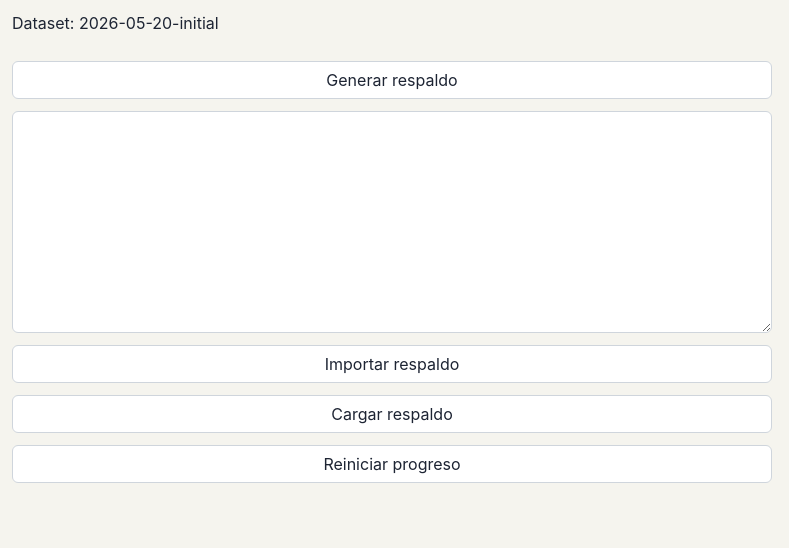
Test: AjustesPage › asks before generating and saving a shared backup
Click the button "Generar respaldo" at (392, 80), box [12,61,772,99]
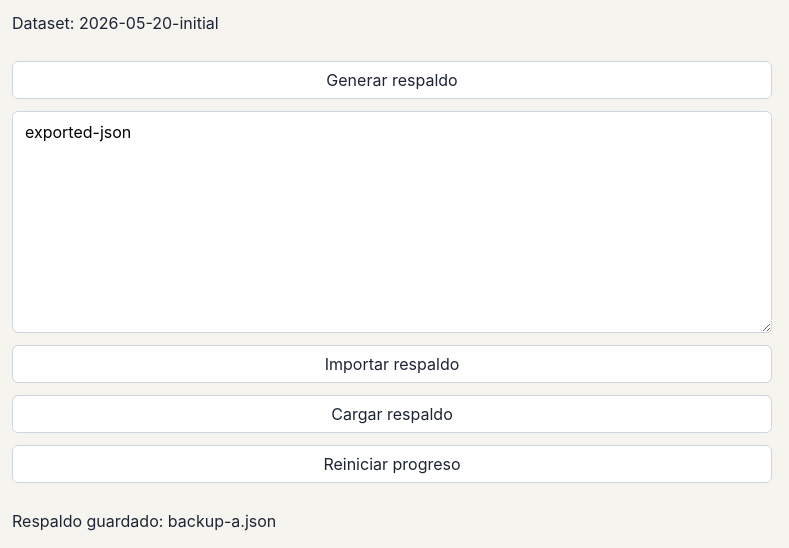
Result: the text box holds "exported-json" at [12,111,772,333]
